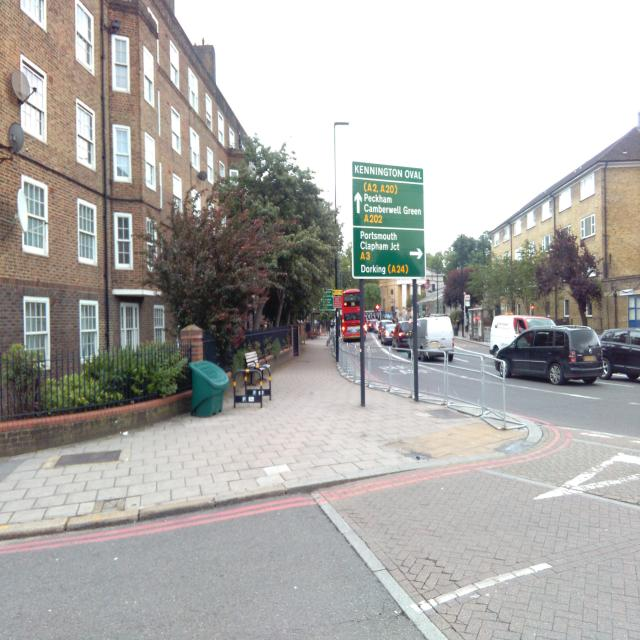Good: (53, 447, 123, 470)
